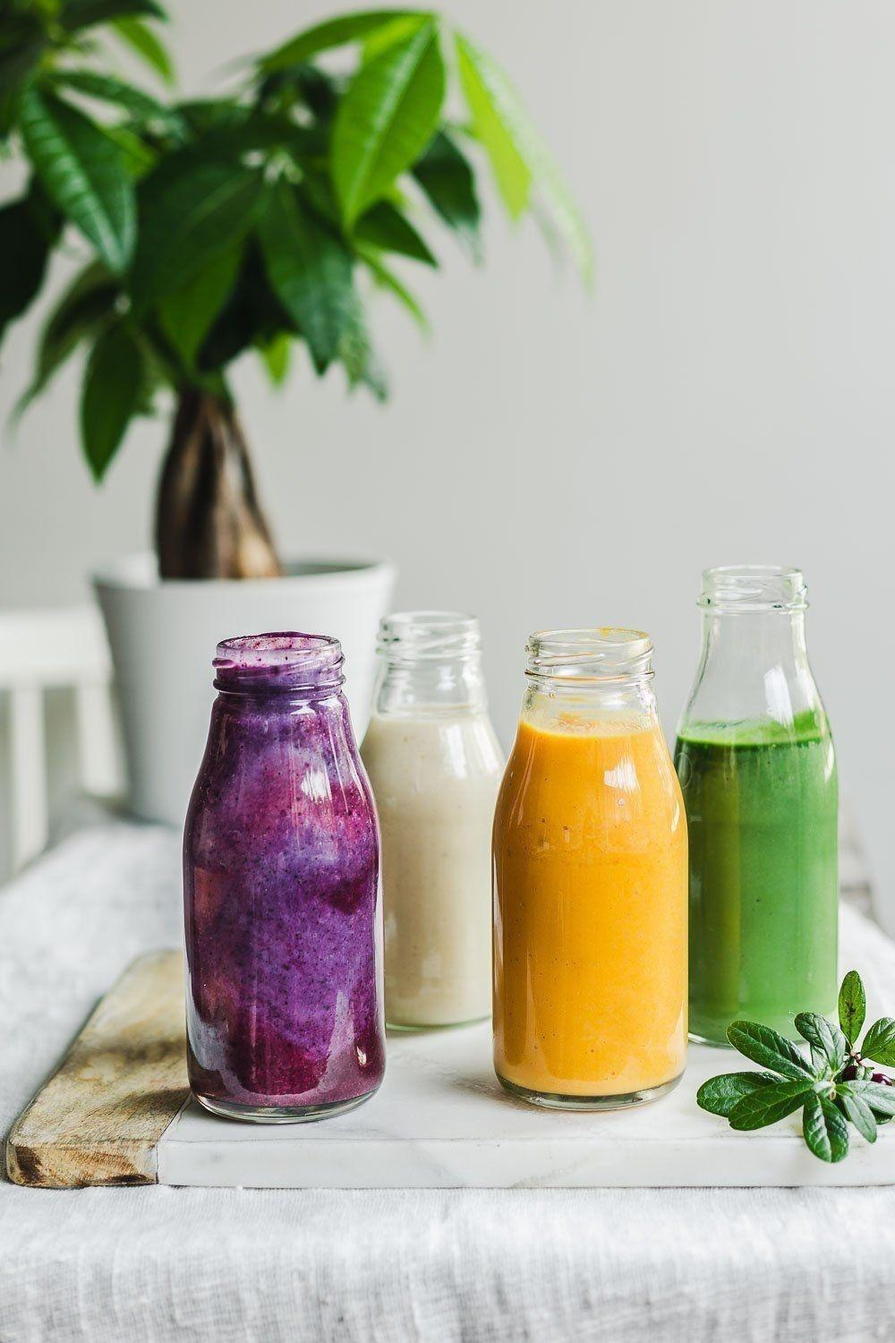bottle-glass: (176, 627, 386, 1124), (486, 629, 694, 1108), (670, 558, 846, 1050), (353, 606, 512, 1029)
